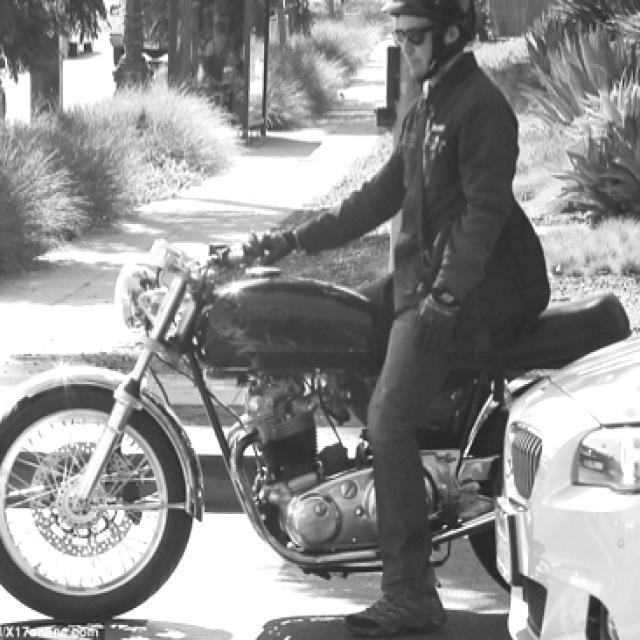Helmet: (383, 0, 486, 87)
